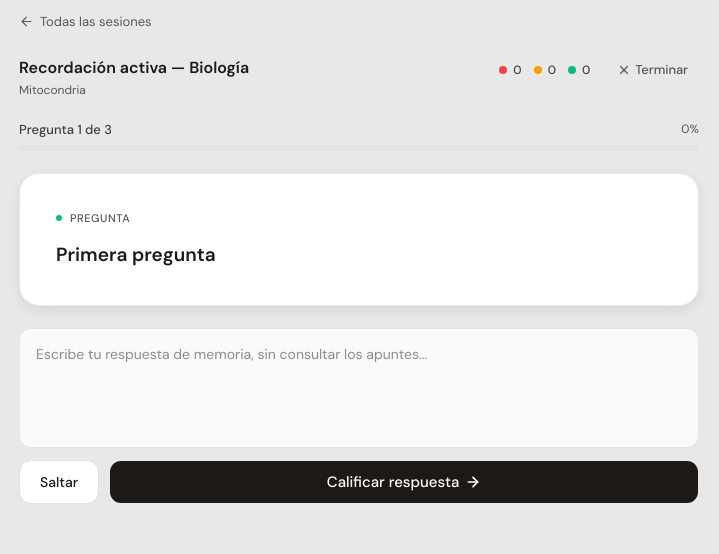
Test: ActiveRecallPlayer session flow › advances on a self-evaluation and clears the answer box
Type "algo" into the text box with test id "answer-textarea" at (359, 388), box [19,328,699,448]
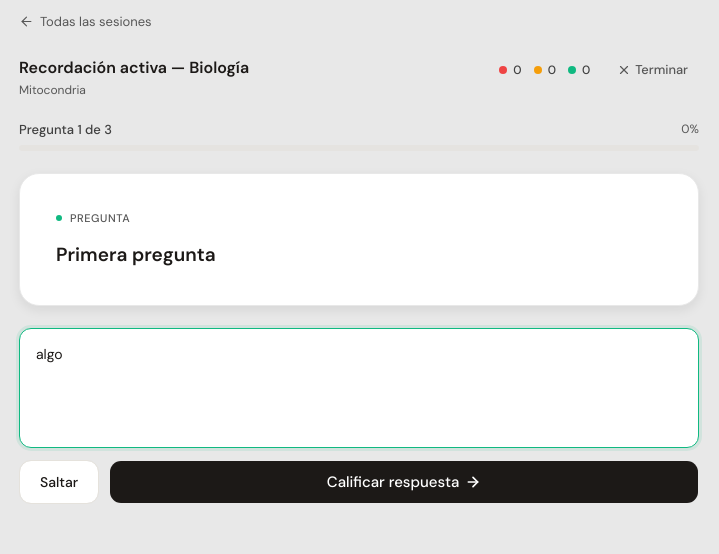
Click the button "Calificar respuesta" at (404, 482), box [109,460,699,504]
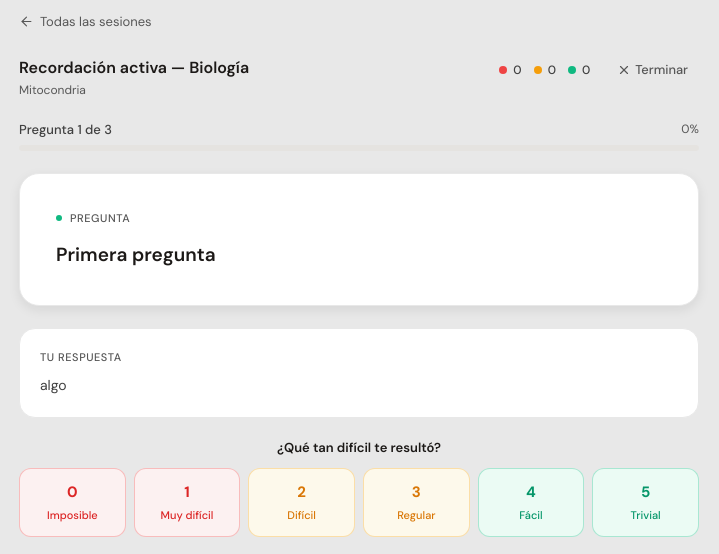
Click the button "4 Fácil" at (531, 502), box [478,468,584,537]
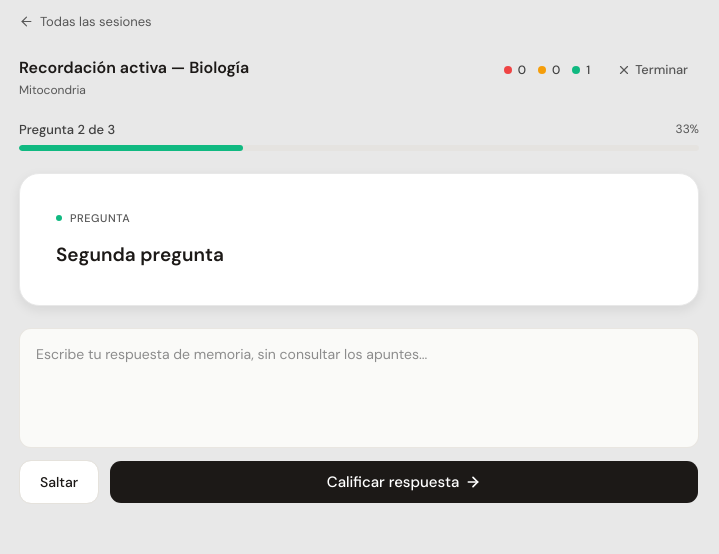
Result: the text "Segunda pregunta" is shown at [56,242,224,266]
Result: the text box with test id "answer-textarea" is empty at [19,328,699,448]
